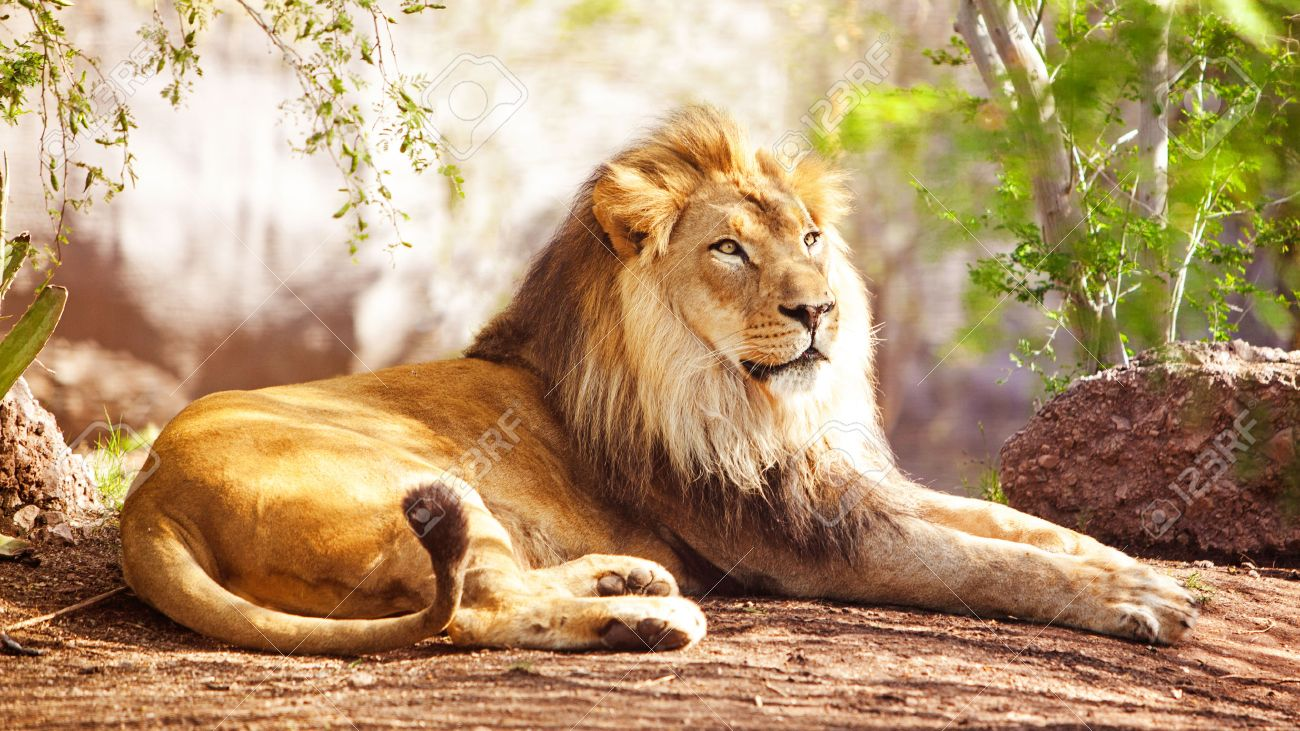lion: (116, 100, 1190, 649)
